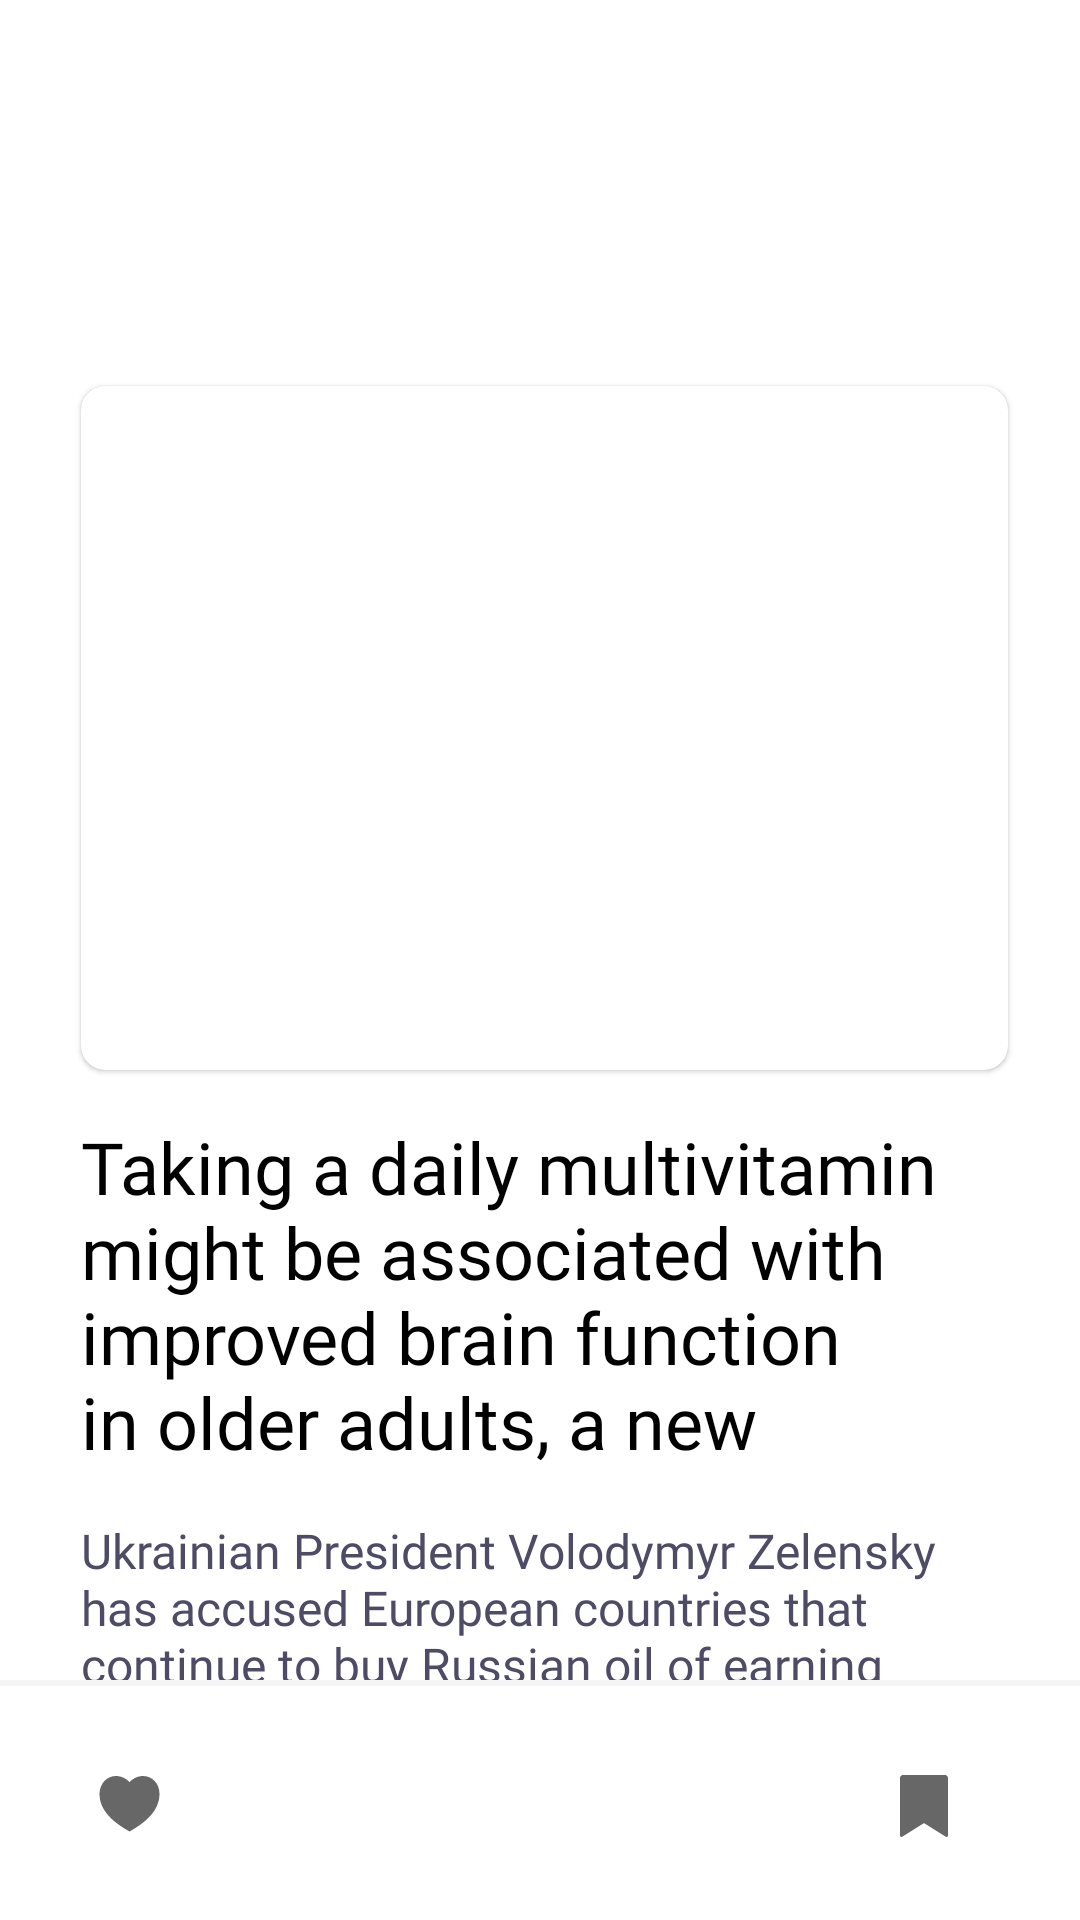

Icon bounding boxes for this 1080*1920 phone screenshot, format (x1, y1, x2, y2):
bookmark: (900, 1775, 948, 1837)
like: (99, 1776, 160, 1832)
